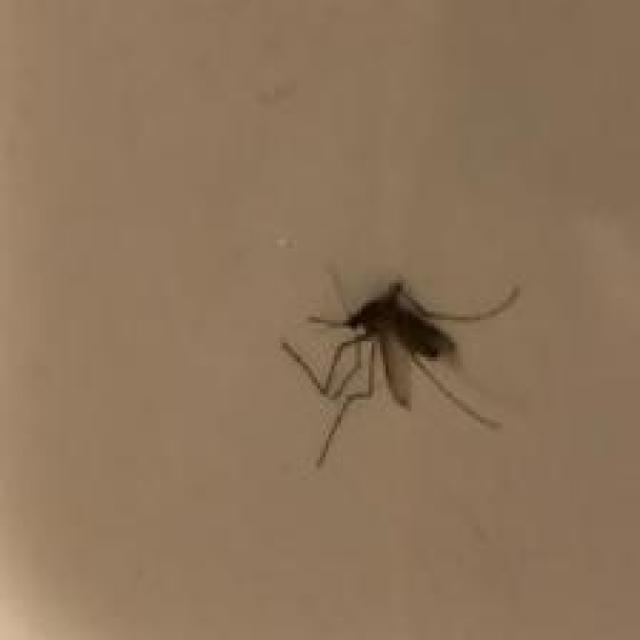Culex: (280, 266, 520, 468)
